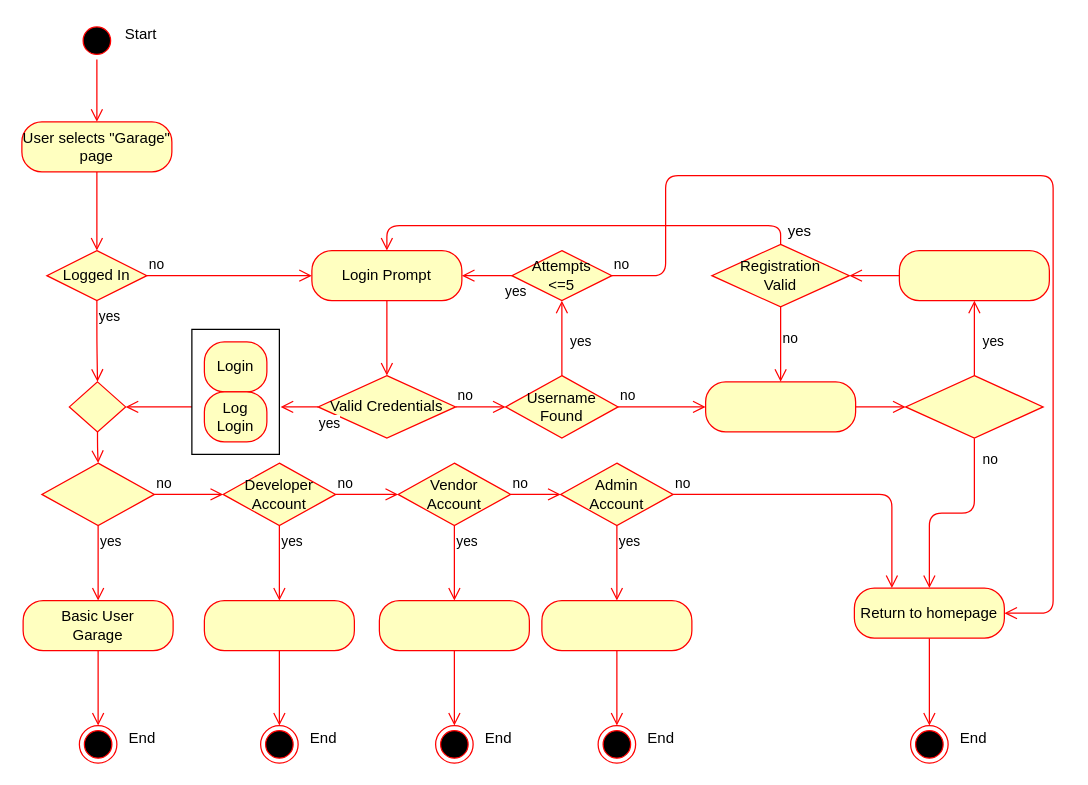
Some shapes in this 1088 by 785 pixel diagram are drawn without their labels. The centre of each missing label's shape, as x and y in pixels:
"Not a valid account" Prompt: point (780, 406)
"Would you like to register?": point (973, 406)
Admin Control Page: point (616, 625)
Basic Account: point (97, 494)
Developer Control Page: point (278, 625)
Registration Prompt: point (973, 275)
Vendor Control Page: point (453, 625)
